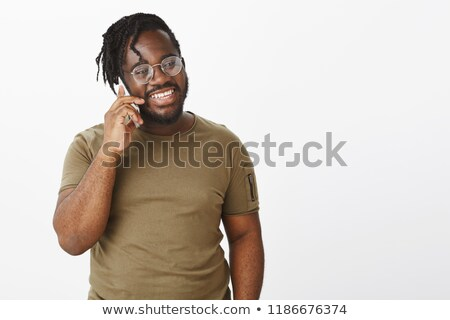phone: (107, 79, 146, 126)
talk: (100, 49, 191, 148)
